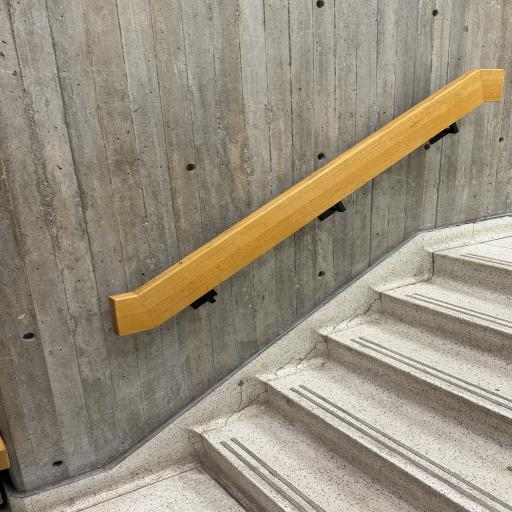Stairs: (202, 237, 512, 512)
